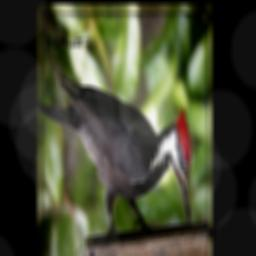Woodpecker: (38, 71, 192, 238)
